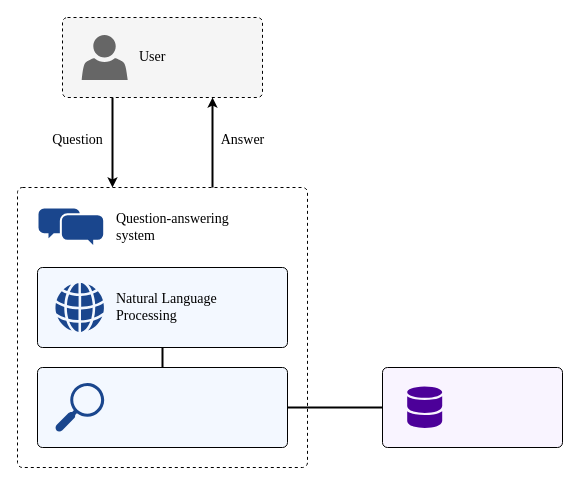
This 580x485 diagram has some shape labels left out. The shapes that lost their labels are listed below. From the top down, each one's centre as x and y in pixels, then its label:
At point 79,407: "Search system".
At point 424,407: "Data storage".
